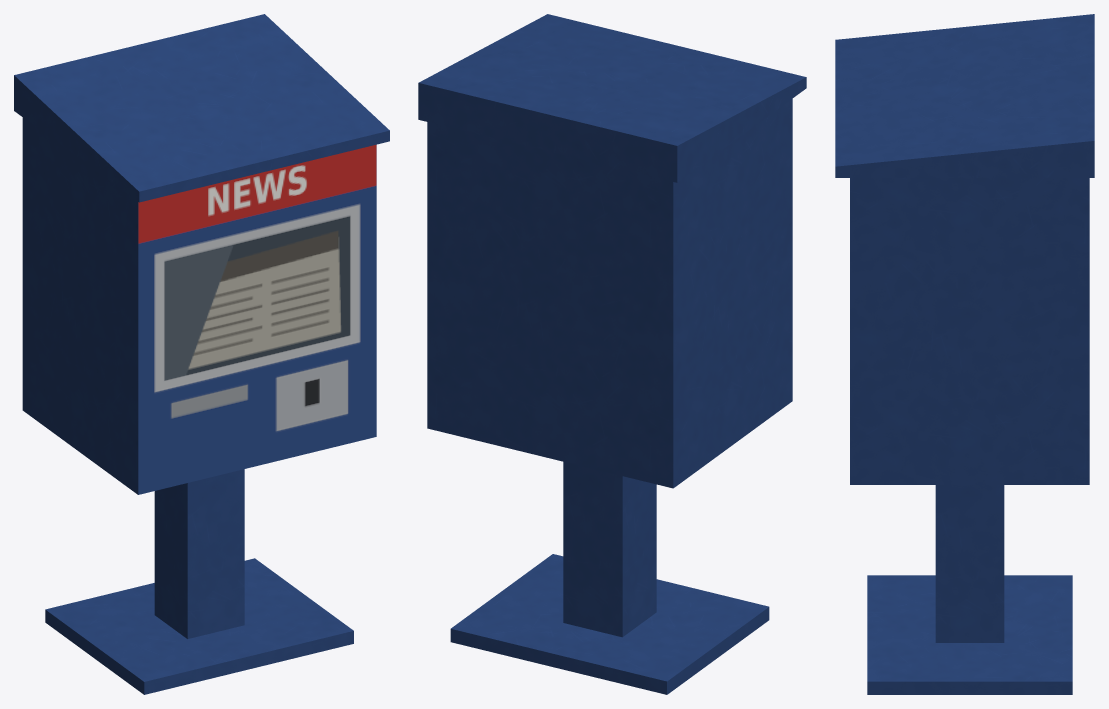
The model's file is newspaper_box.gltf.
3 views of the same model, side by side, from view 1: azimuth 30°, elevation 25°; view 2: azimuth 150°, elevation 25°; view 3: azimuth 270°, elevation 25° (orthographic). The views are drawn at different scales.
Parts seen in each view (by area): view 1: newspaper_box; view 2: newspaper_box; view 3: newspaper_box.
Boxes of the visible parts, x1,y1,x2,y2 form: newspaper_box: (14, 14, 389, 694); newspaper_box: (418, 14, 806, 694); newspaper_box: (835, 14, 1094, 694).
Bounding box in the file's own units: 0.605 × 1.26 × 0.523.
2 materials, 2 textured.
